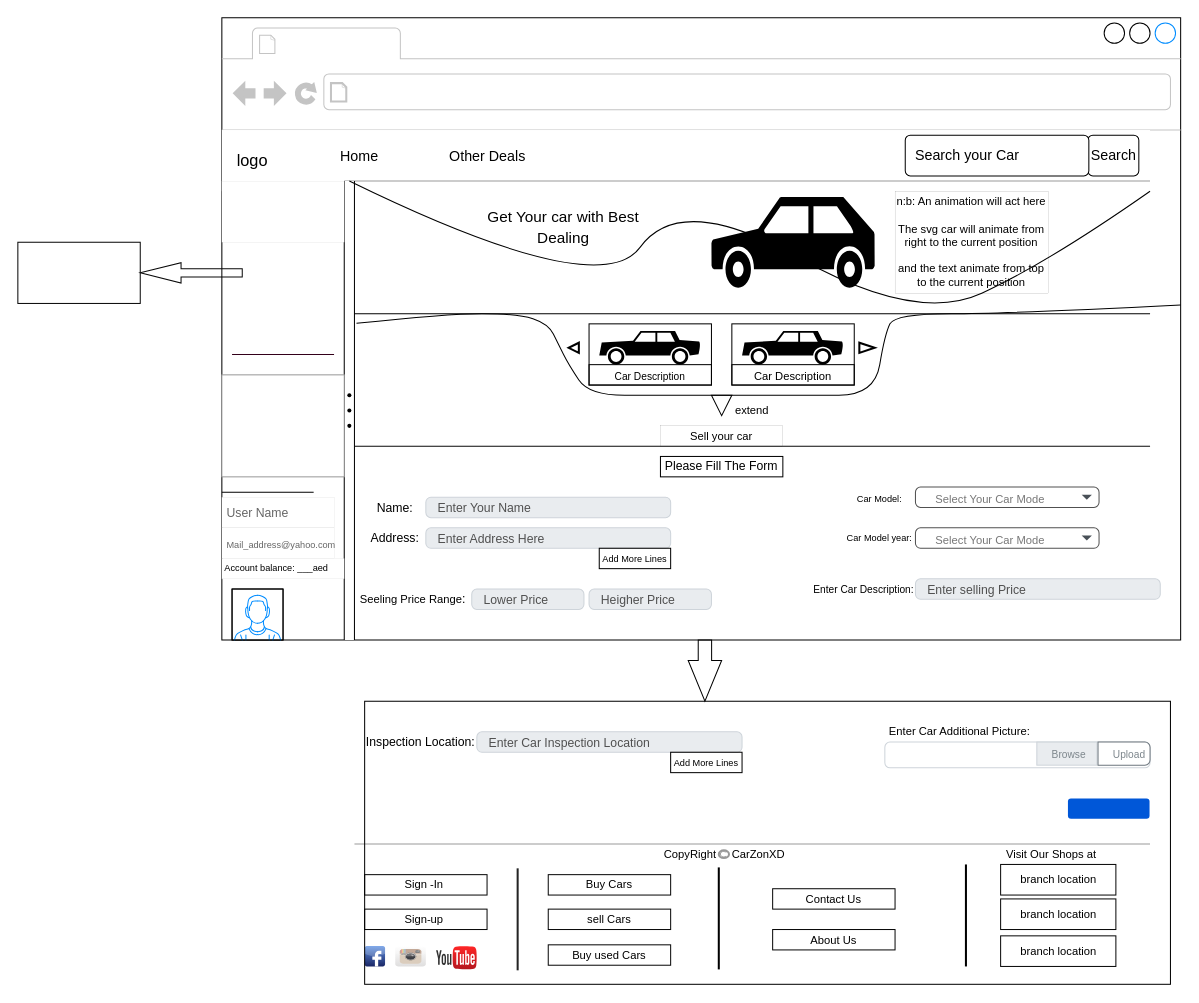
Image size: 1199x1003. Some labels were removed from this diagram. The centre of each missing label's shape, as x and y in pixels:
(advertisement box): [282,425]
Car Brand (logo): [282,211]
https://www.draw.io/CarZonXd/BMW/sell: [481,92]
Page 1: [338,43]
Select Picture: [1017,754]
Submit: [1108,808]
That side bar will be "sticky": [78,272]
Todays Best Dealing: [751,313]
